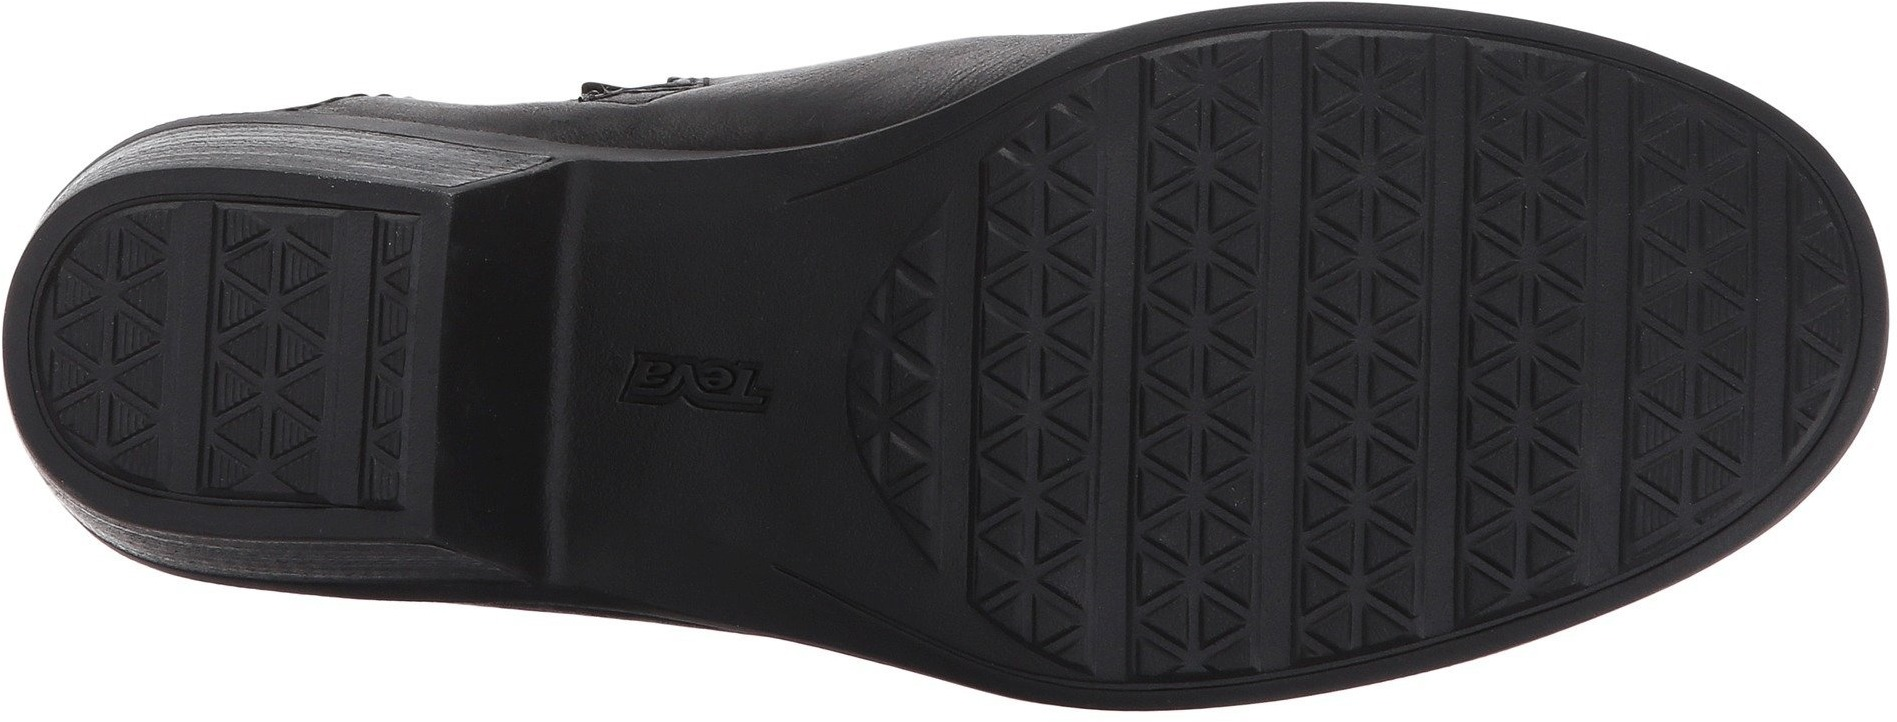exclude: (482, 131, 671, 634)
triangle: (1349, 313, 1614, 581), (1336, 48, 1576, 304), (886, 357, 1105, 578), (1624, 135, 1810, 381), (1142, 284, 1334, 483), (212, 219, 408, 412), (932, 155, 1107, 340), (1131, 63, 1304, 237), (1130, 497, 1304, 669), (51, 232, 192, 374), (1631, 393, 1748, 506)
